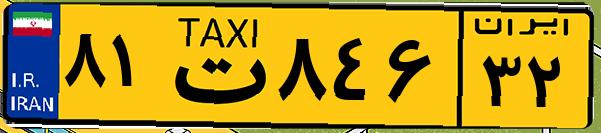1: (110, 28, 158, 98)
2: (525, 38, 570, 115)
3: (475, 38, 525, 113)
4: (330, 28, 385, 110)
6: (385, 28, 445, 110)
8: (270, 28, 330, 110), (57, 26, 110, 100)
ت: (158, 12, 270, 120)
